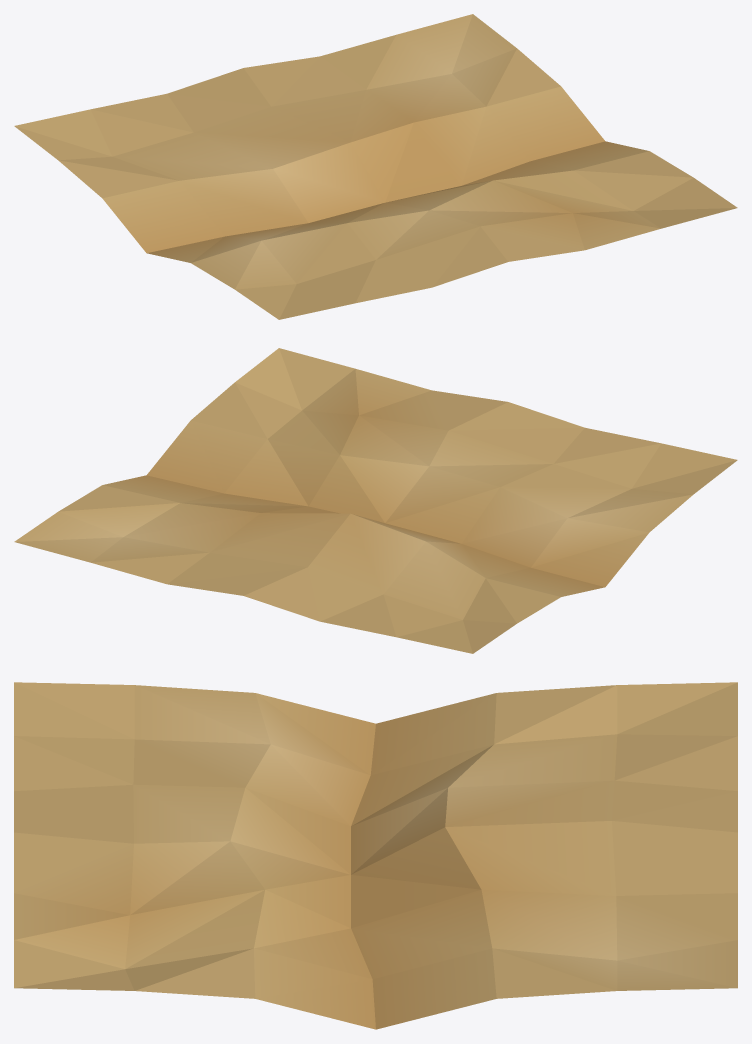
The model's file is Mixed_Ground_04.fbx.
The picture shows the model from 3 angles, top to bottom: view 1: azimuth 30°, elevation 25°; view 2: azimuth 150°, elevation 25°; view 3: azimuth 270°, elevation 25°; orthographic projection. The views are drawn at different scales.
Parts seen in each view (by area): view 1: Ground_04.001; view 2: Ground_04.001; view 3: Ground_04.001.
Part boxes in pixels (bbox=[...]): Ground_04.001: bbox=[14, 14, 737, 319]; Ground_04.001: bbox=[14, 348, 737, 653]; Ground_04.001: bbox=[14, 682, 737, 1029].
Size of the model in its own units: 1000 by 76.62 by 1000.
